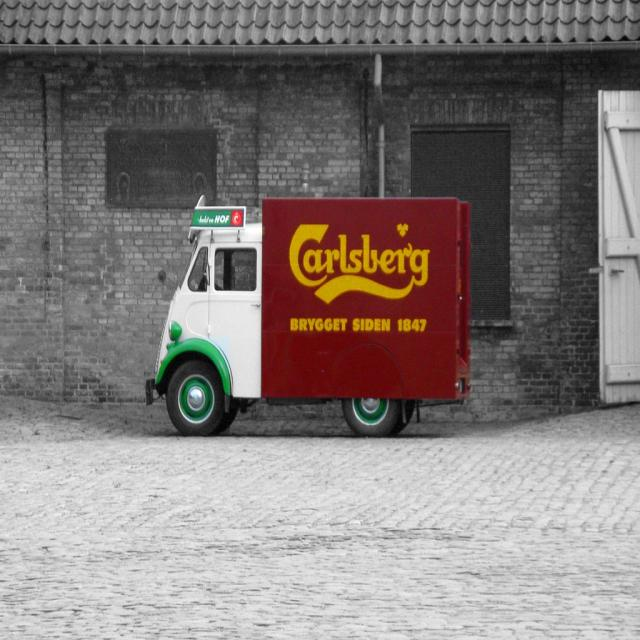carlsberg: (285, 210, 436, 307)
